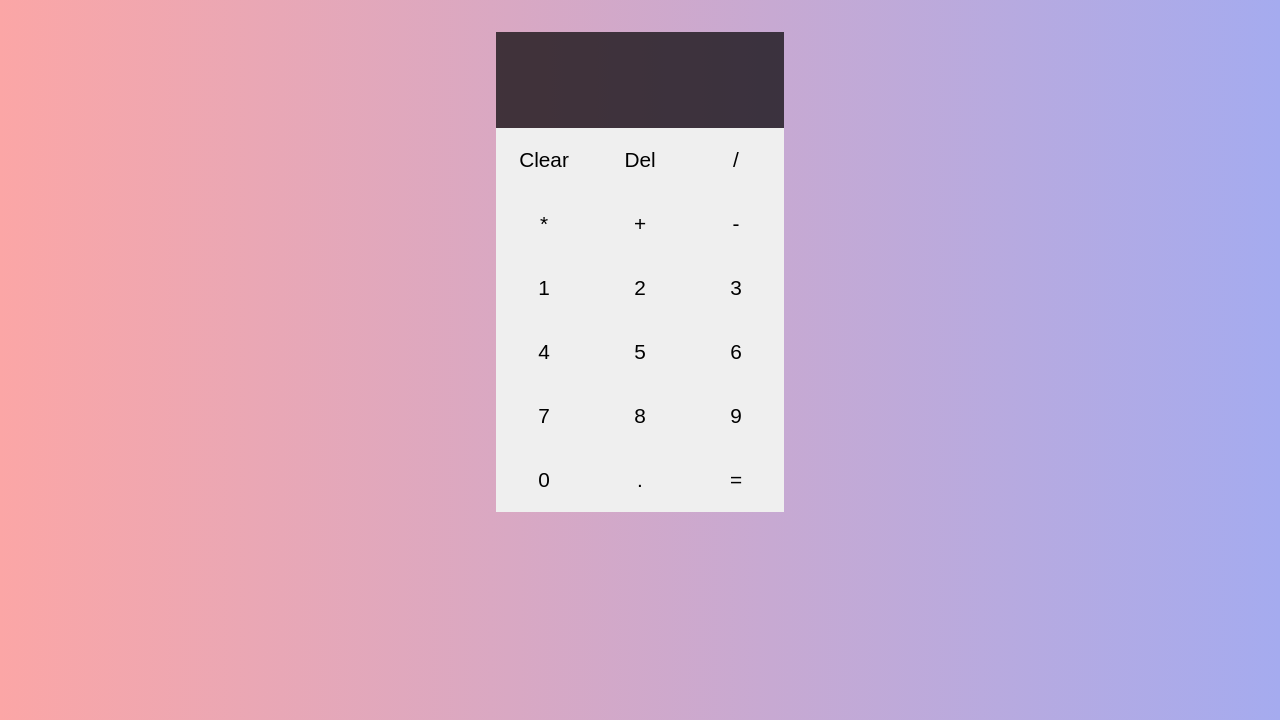
Scenario: Operation tests › Should delete last digit typed
Click the button "1": (544, 288) [496,256,592,320]
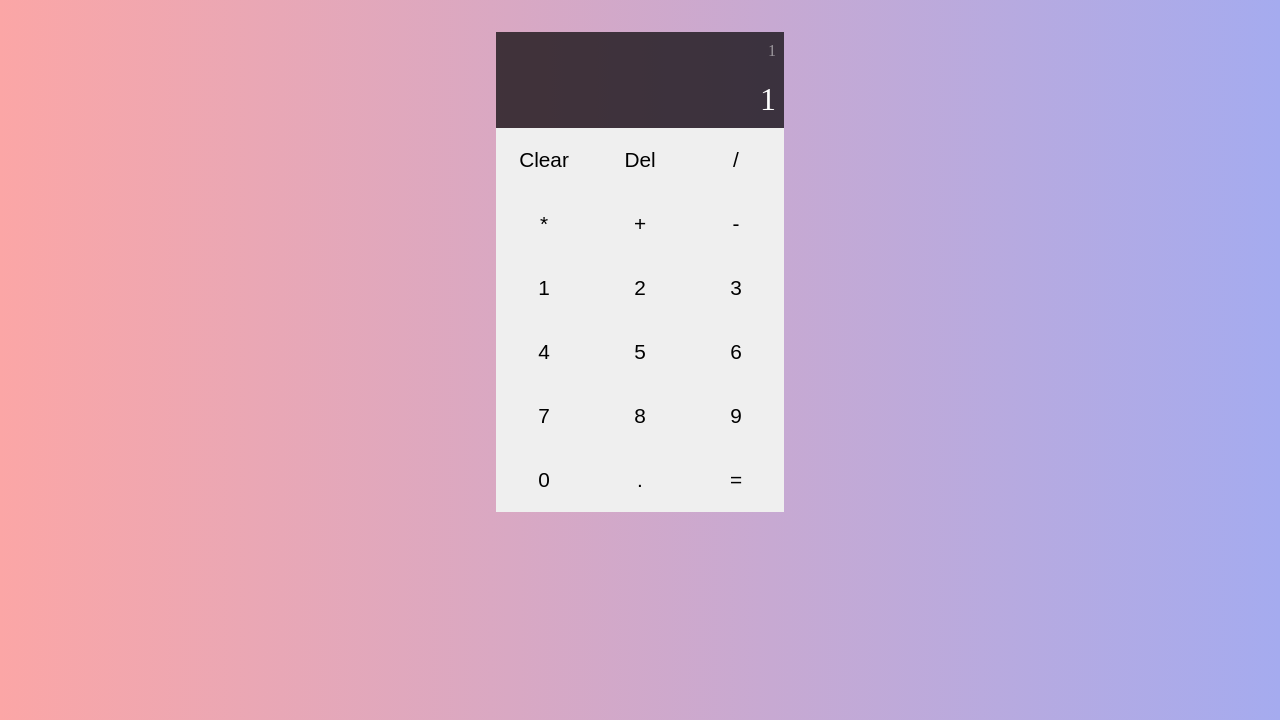
Click the button "+": (640, 224) [592,192,688,256]
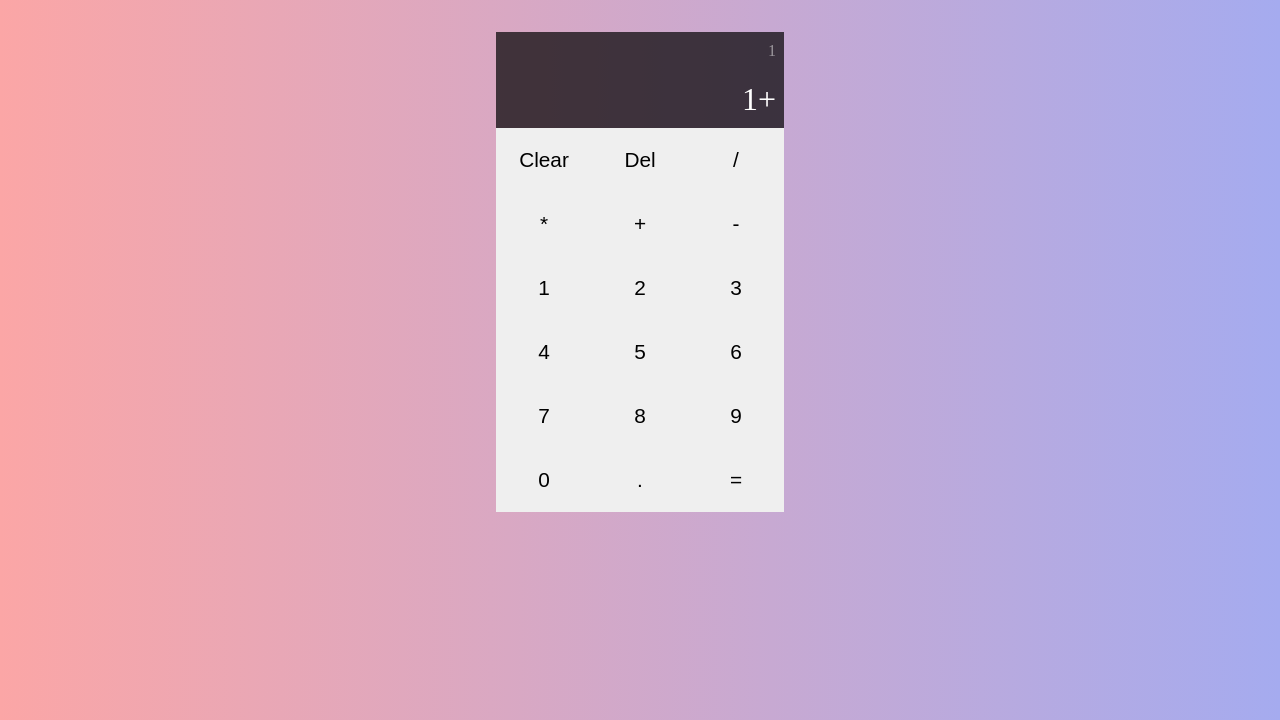
Click the button "2": (640, 288) [592,256,688,320]
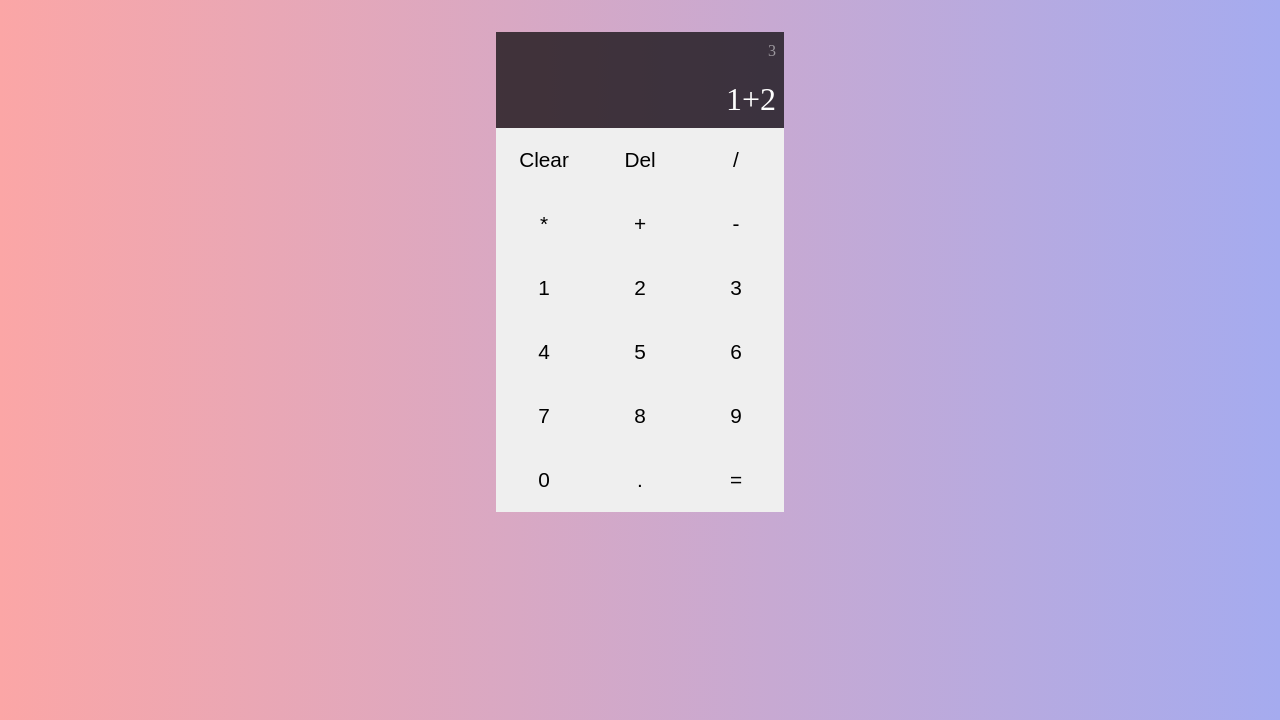
Click the button "Del": (640, 160) [592,128,688,192]
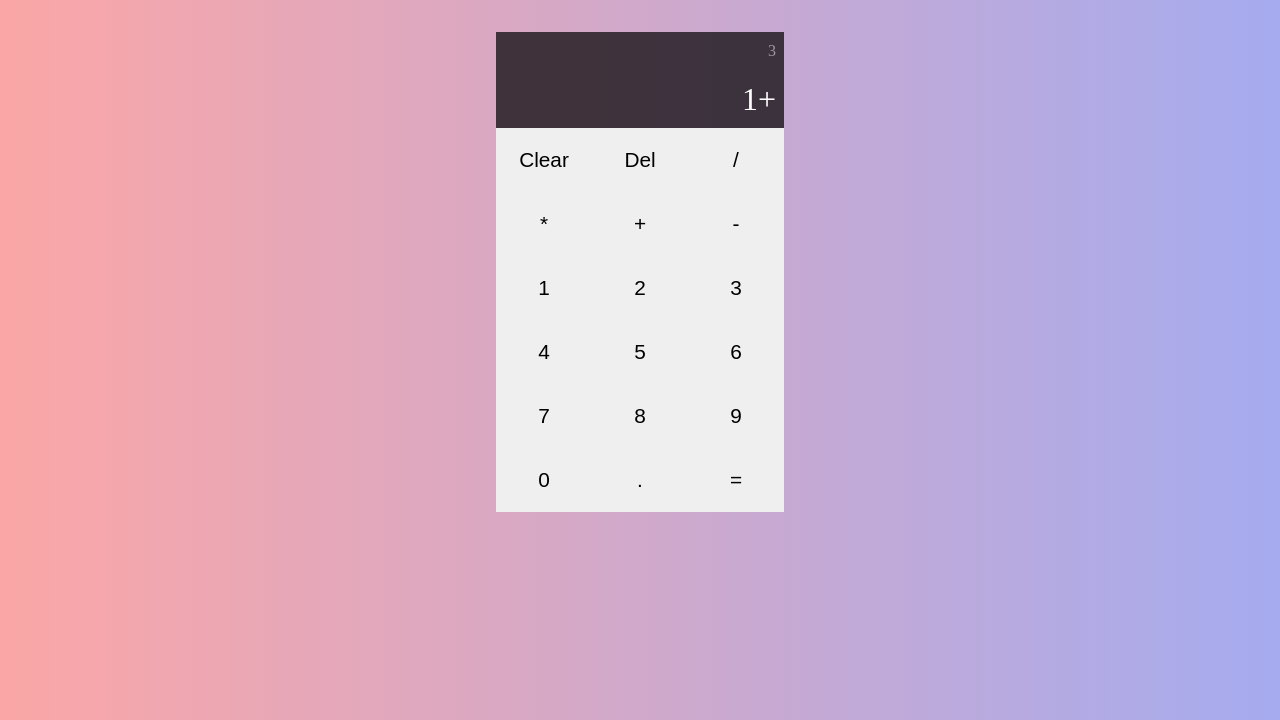
Check: the element with class "operation" no longer shows "2"
